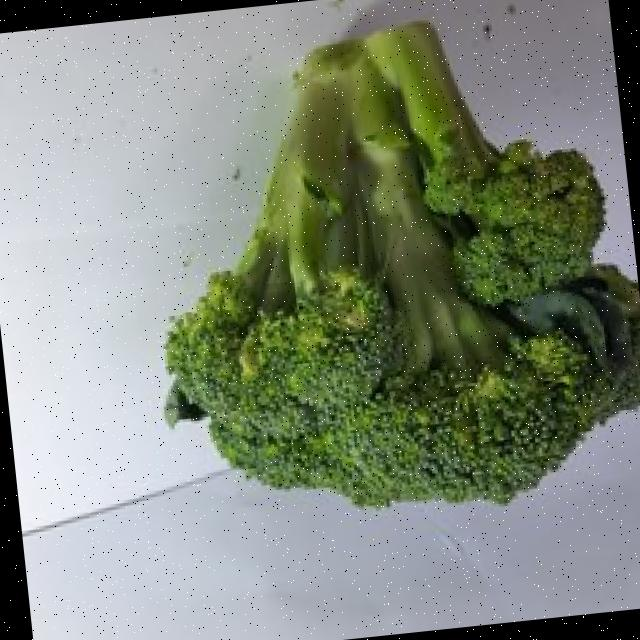Broccoli: (164, 25, 640, 506), (166, 23, 640, 506)
